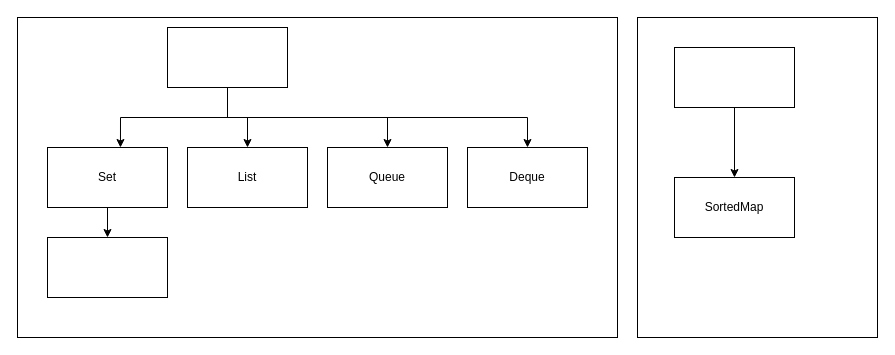
Image size: 895x355. Some labels were removed from this diagram. Each missing label, with the box of its shape:
Collection: (166, 26, 288, 88)
Map: (674, 46, 794, 108)
SortedSet: (46, 236, 168, 298)
